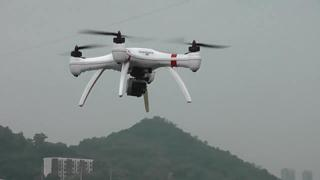UAV: (58, 29, 232, 112)
